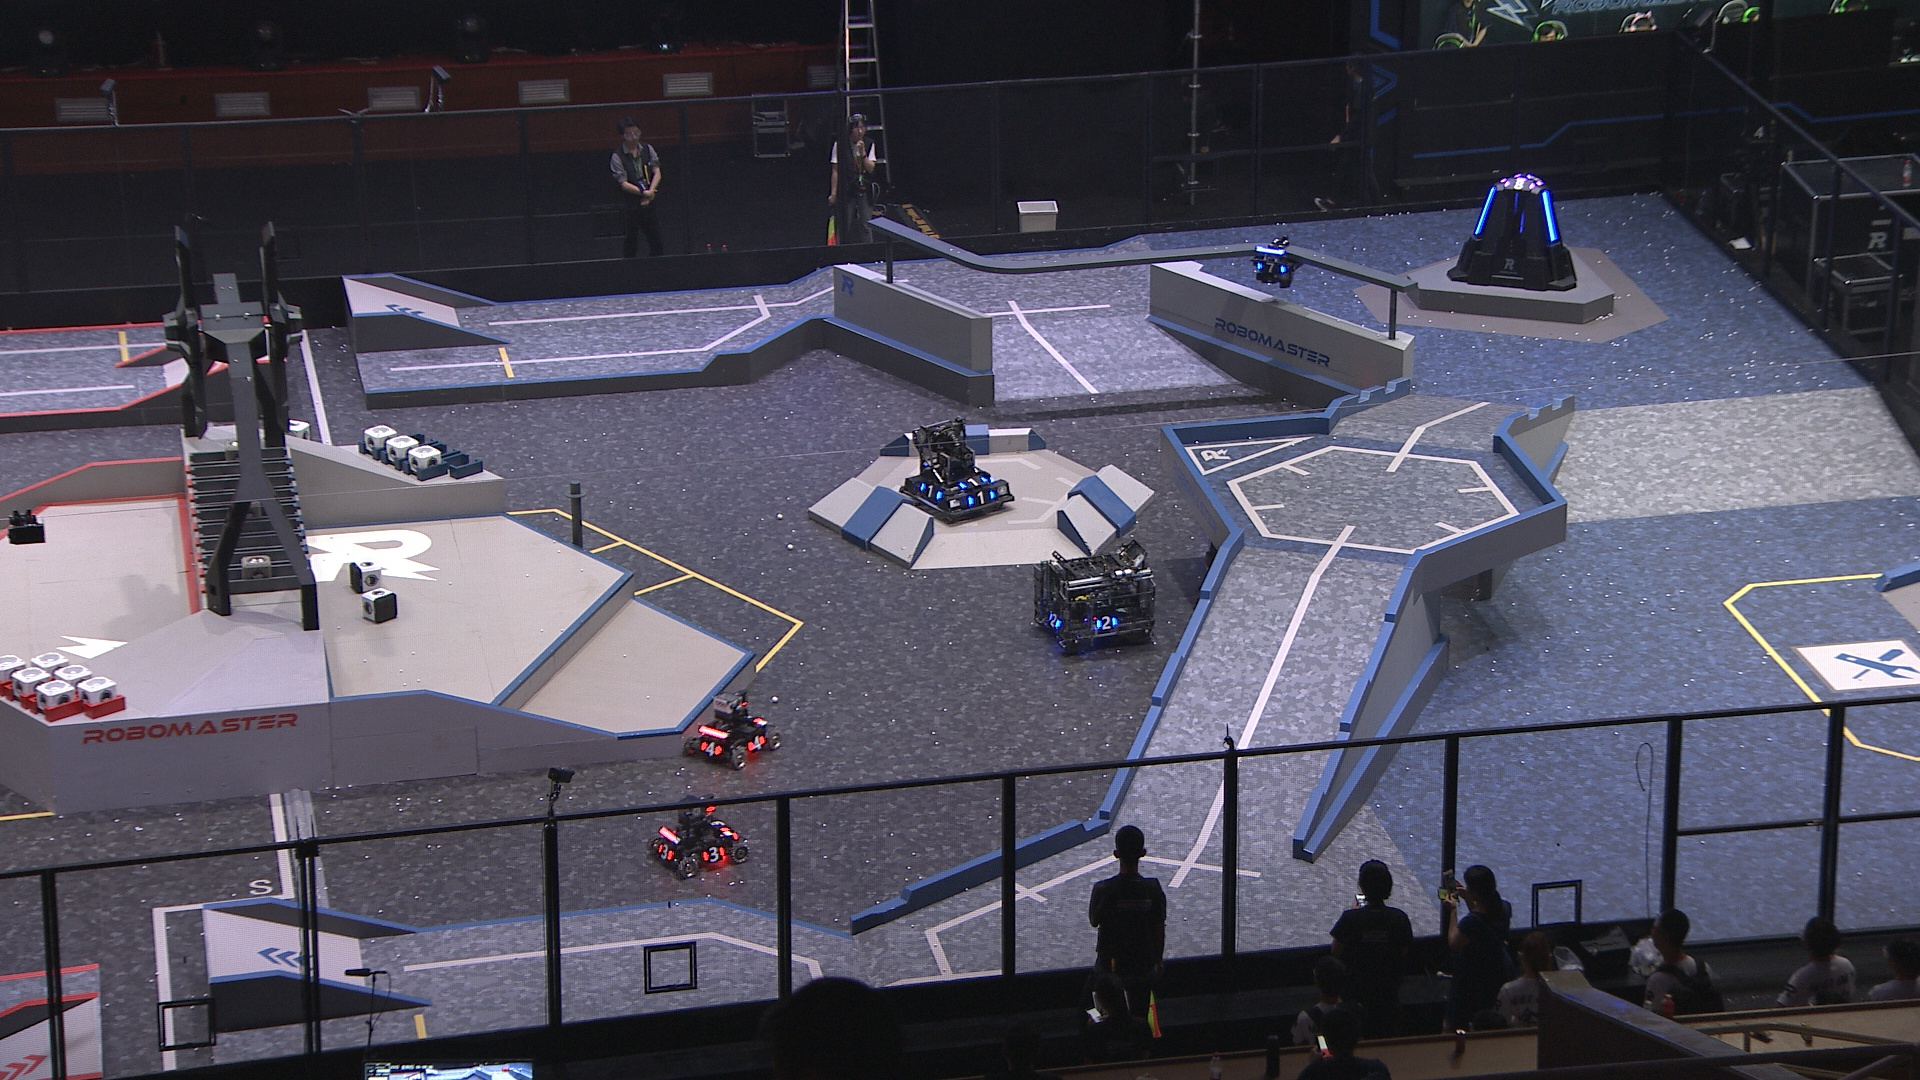armor: (1472, 185, 1495, 235), (1542, 190, 1557, 243), (965, 488, 998, 505), (699, 845, 727, 864), (916, 483, 944, 501), (655, 843, 676, 865), (698, 741, 723, 760), (1095, 613, 1120, 632), (1255, 261, 1286, 276), (956, 476, 992, 488), (746, 735, 766, 752), (1046, 612, 1064, 629), (709, 820, 733, 833)
base: (1447, 171, 1578, 291)
car: (1034, 534, 1162, 655), (897, 415, 1019, 524), (647, 793, 752, 880), (680, 688, 785, 770)
ignore: (1503, 178, 1538, 193)
watcher: (1250, 233, 1304, 289)
